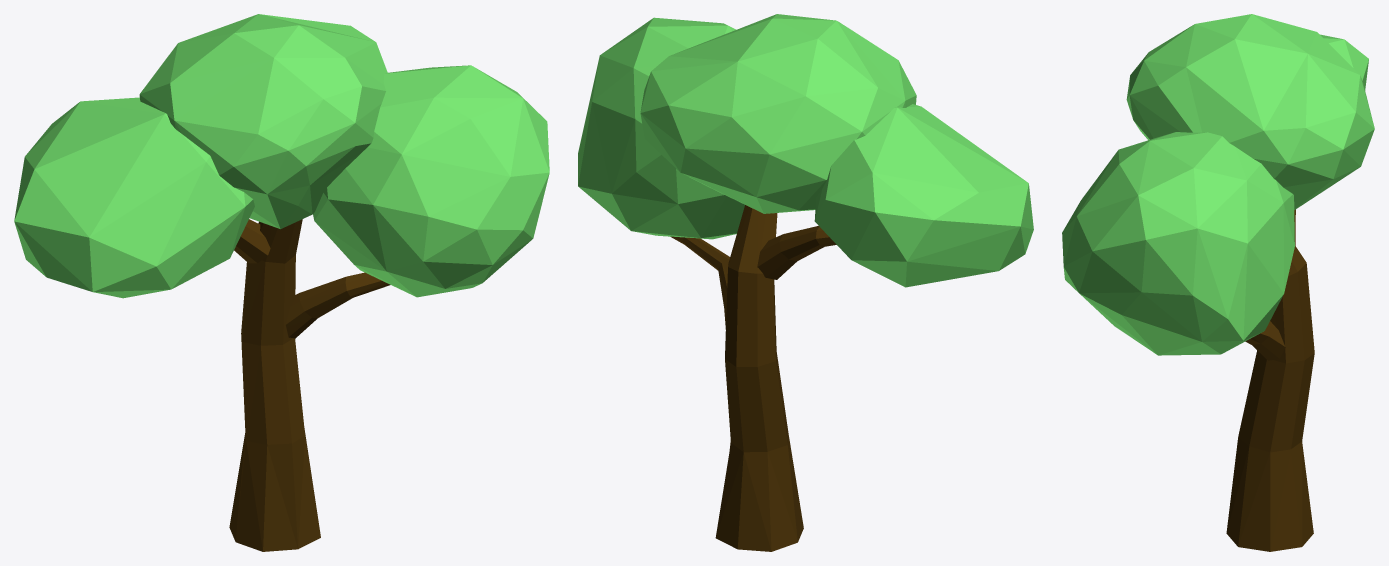
The model's file is TreeCollection2_Tree01.fbx.
3 views of the same model, side by side, from view 1: azimuth 30°, elevation 25°; view 2: azimuth 150°, elevation 25°; view 3: azimuth 270°, elevation 25° (orthographic). The views are drawn at different scales.
Visible parts, largest first — view 1: Tree01; view 2: Tree01; view 3: Tree01.
Boxes of the visible parts, bbox=[...] form: Tree01: bbox=[14, 14, 549, 551]; Tree01: bbox=[578, 14, 1033, 551]; Tree01: bbox=[1062, 14, 1374, 551].
Bounding box in the file's own units: 1660 × 1709 × 975.
